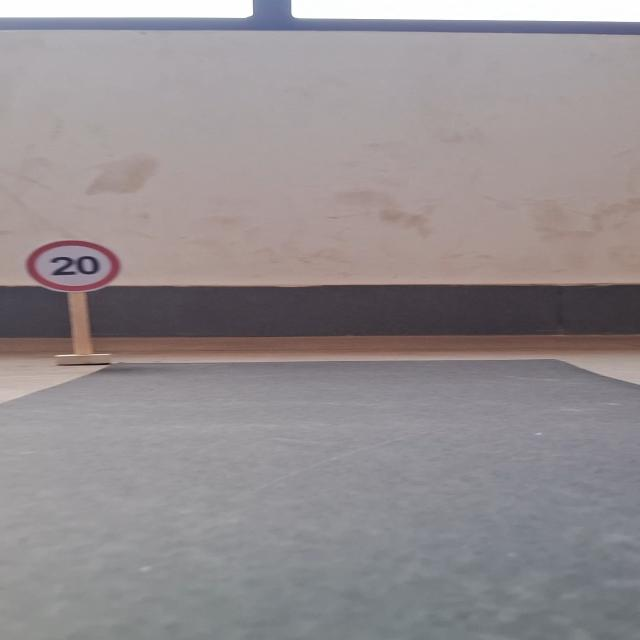Speed20: (12, 233, 132, 297)
